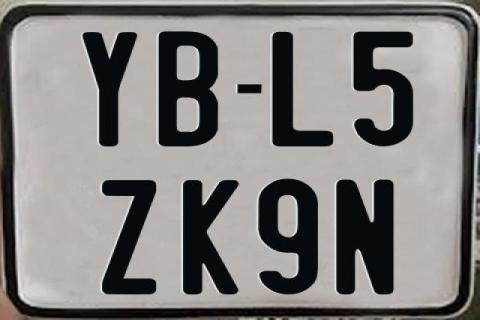0: (350, 32, 414, 150), (256, 178, 320, 296)
B: (156, 31, 215, 147)
K: (181, 178, 242, 294)
L: (271, 30, 333, 148)
N: (334, 179, 394, 297)
Y: (82, 32, 137, 146)
Z: (102, 179, 156, 297)
